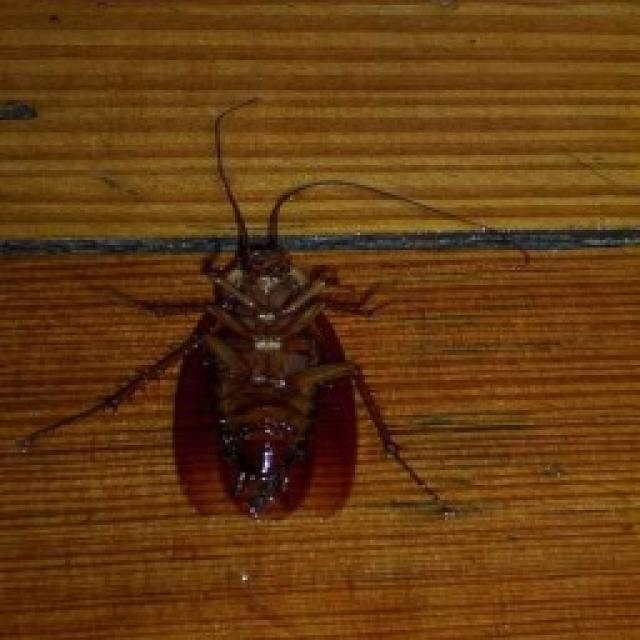cockroach: (102, 147, 396, 586)
